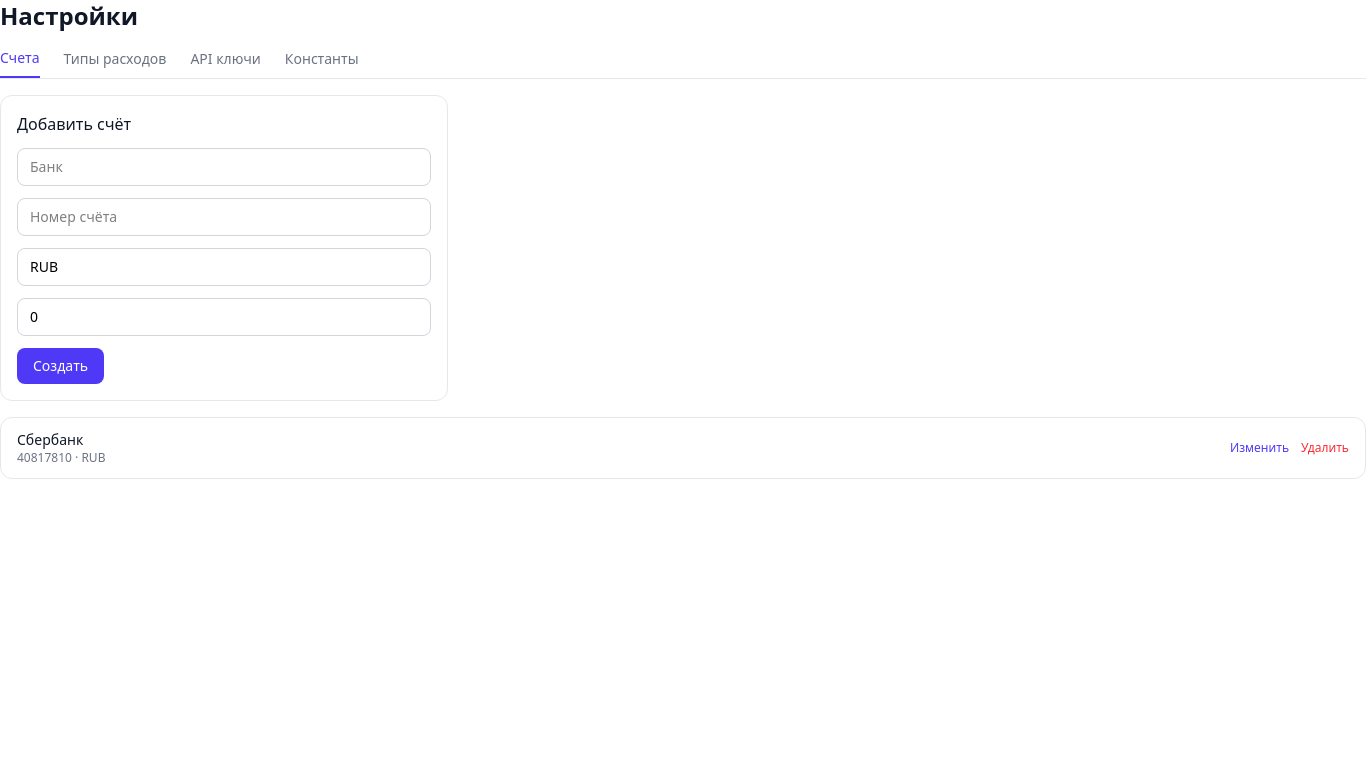
Scenario: Settings — AccountsTab edit modal › opens edit modal when Изменить is clicked for an account
The width and height of the screenshot is (1366, 768).
Expected: the text "Сбербанк" is shown, 17,430 -> 83,449
Click the button "Изменить" at [1260, 448], box 1230,440 -> 1289,456
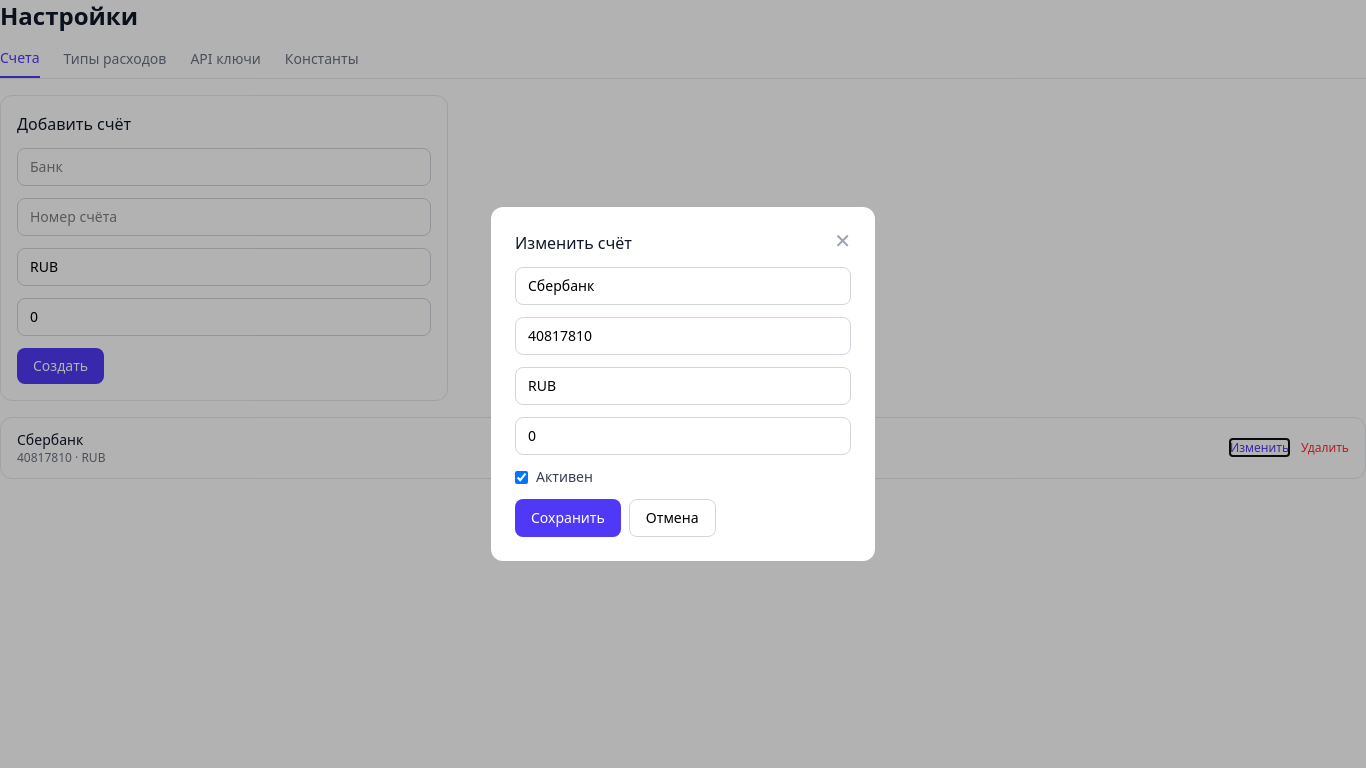
Expected: the heading "Изменить счёт" is shown, 515,231 -> 632,255
Expected: the 1st field showing "Сбербанк" is shown, 515,267 -> 851,305
